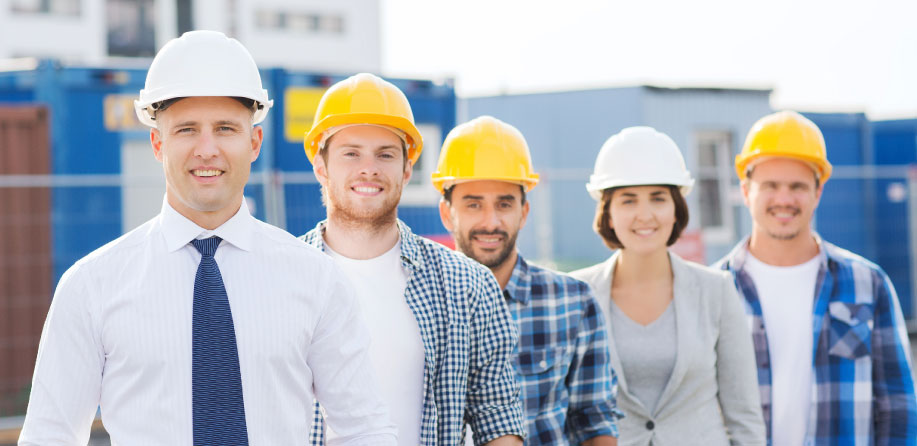Safety Helmet: (121, 15, 272, 230), (299, 53, 427, 246), (575, 114, 704, 273), (725, 94, 848, 253), (431, 103, 544, 273)
